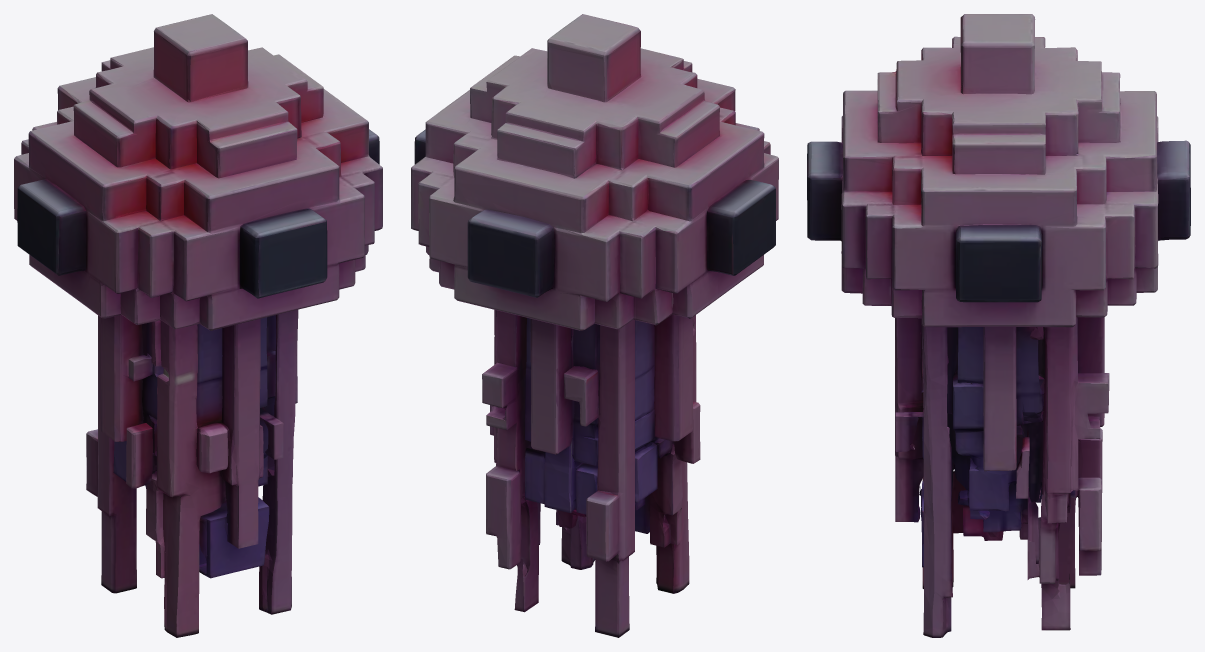
File: jellyfish.glb
3 views of the same model, side by side, from view 1: azimuth 30°, elevation 25°; view 2: azimuth 150°, elevation 25°; view 3: azimuth 270°, elevation 25° (orthographic). The views are drawn at different scales.
Visible parts, largest first — view 1: geometry_0; view 2: geometry_0; view 3: geometry_0.
Part boxes in pixels (x1,y1,x2,y2): geometry_0: (14,14,382,637); geometry_0: (411,14,778,637); geometry_0: (807,14,1190,637).
Bounding box in the file's own units: 0.6006 × 1 × 0.5993.
1 material, 1 textured.
